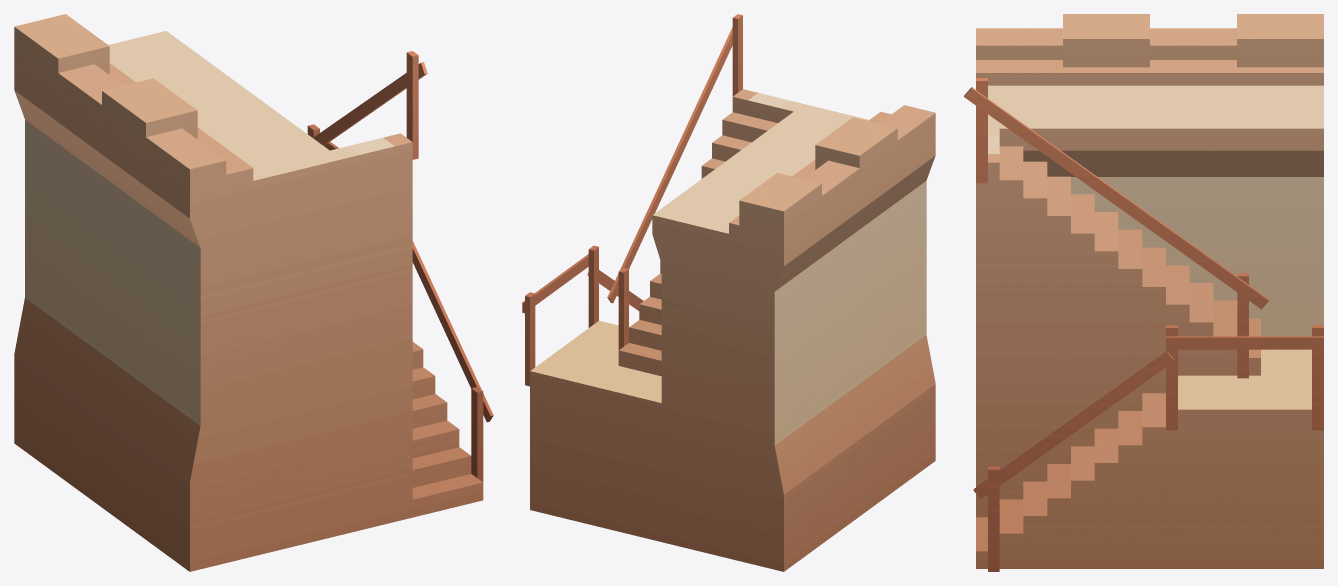
Rendered from wall-narrow-stairs-rail.glb.
3 views of the same model, side by side, from view 1: azimuth 30°, elevation 25°; view 2: azimuth 150°, elevation 25°; view 3: azimuth 270°, elevation 25° (orthographic). The views are drawn at different scales.
Parts seen in each view (by area): view 1: wall-narrow-stairs-rail; view 2: wall-narrow-stairs-rail; view 3: wall-narrow-stairs-rail.
Part boxes in pixels (x1,y1,x2,y2): wall-narrow-stairs-rail: (14, 14, 493, 571); wall-narrow-stairs-rail: (522, 14, 935, 571); wall-narrow-stairs-rail: (964, 14, 1323, 571).
Size of the model in its own units: 0.995 by 1.45 by 1.03.
Materials: 1 (1 with a texture image).
